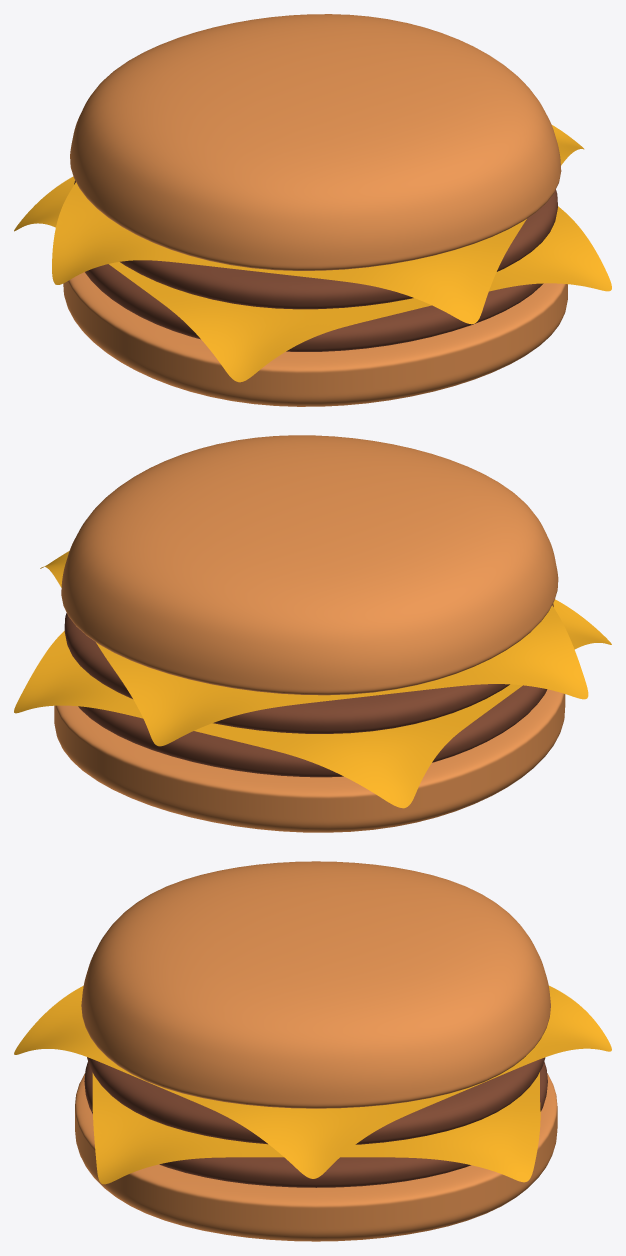
Rendered from hamburger_animato.gltf.
3 renders of one model, top to bottom at view 1: azimuth 30°, elevation 25°; view 2: azimuth 150°, elevation 25°; view 3: azimuth 270°, elevation 25°, orthographic. The views are drawn at different scales.
Parts seen in each view (by area): view 1: Hamburger; view 2: Hamburger; view 3: Hamburger.
Part boxes in pixels (box(x1,y1,x2,y2)): Hamburger: box(14, 14, 611, 406); Hamburger: box(14, 435, 611, 832); Hamburger: box(14, 861, 611, 1241).
Bounding box in the file's own units: 11.26 × 4.95 × 11.21.
